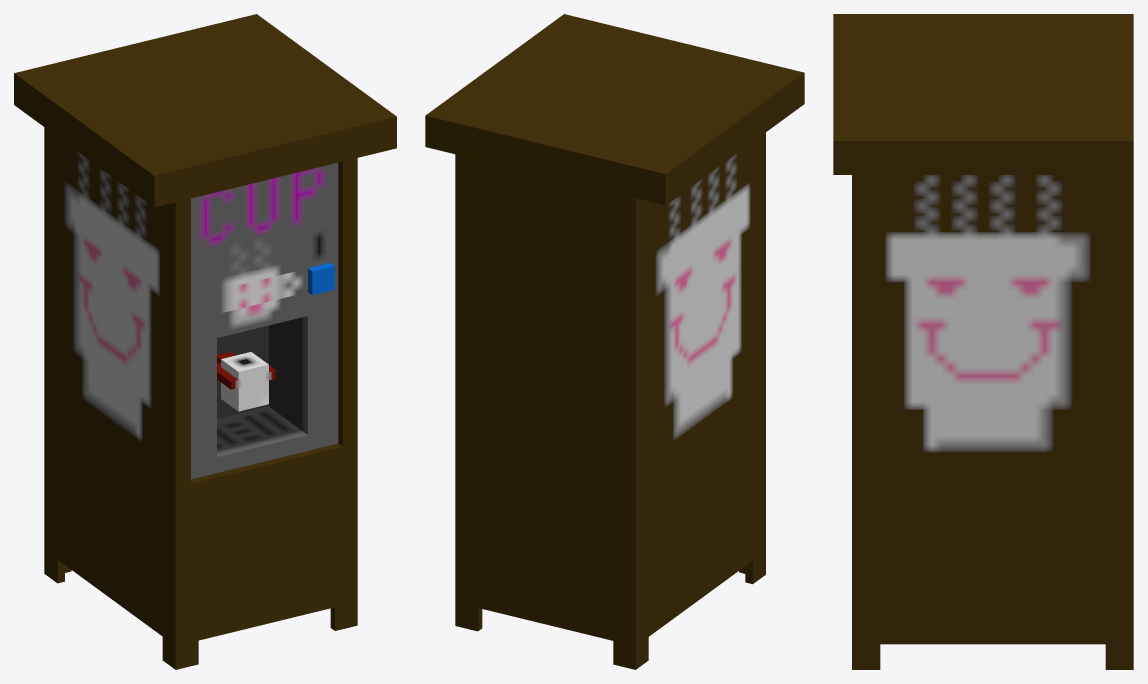
The model's file is VendingMachine03.fbx.
The picture shows the model from 3 angles, left to right: view 1: azimuth 30°, elevation 25°; view 2: azimuth 150°, elevation 25°; view 3: azimuth 270°, elevation 25°; orthographic projection. The views are drawn at different scales.
Parts seen in each view (by area): view 1: Matrix; view 2: Matrix; view 3: Matrix.
Part boxes in pixels (box(x1,y1,x2,y2)): Matrix: box(14, 14, 396, 669); Matrix: box(425, 14, 804, 669); Matrix: box(833, 14, 1133, 669).
Bounding box in the file's own units: 32 × 64 × 32.
